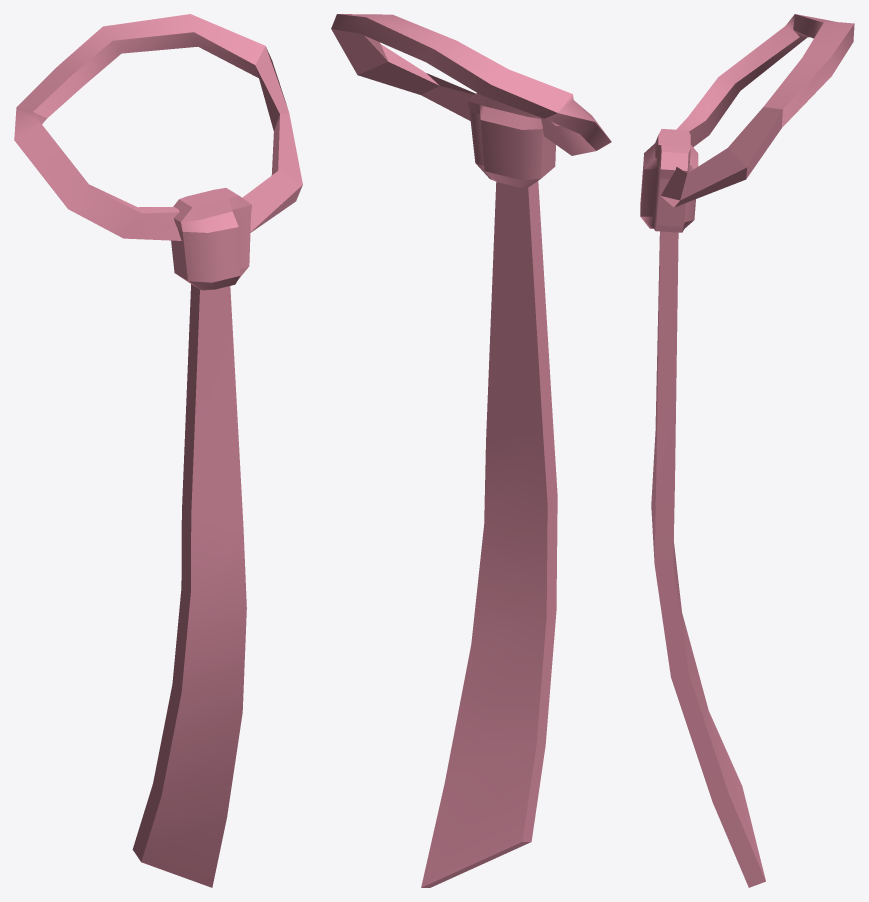
Rendered from tie.fbx.
3 views of the same model, side by side, from view 1: azimuth 30°, elevation 25°; view 2: azimuth 150°, elevation 25°; view 3: azimuth 270°, elevation 25° (orthographic). The views are drawn at different scales.
Parts seen in each view (by area): view 1: pCube4; view 2: pCube4; view 3: pCube4.
Part boxes in pixels (box(x1,y1,x2,y2)): pCube4: box(14, 14, 302, 887); pCube4: box(331, 14, 611, 887); pCube4: box(640, 14, 854, 887).
Bounding box in the file's own units: 22.08 × 70.18 × 16.22.
